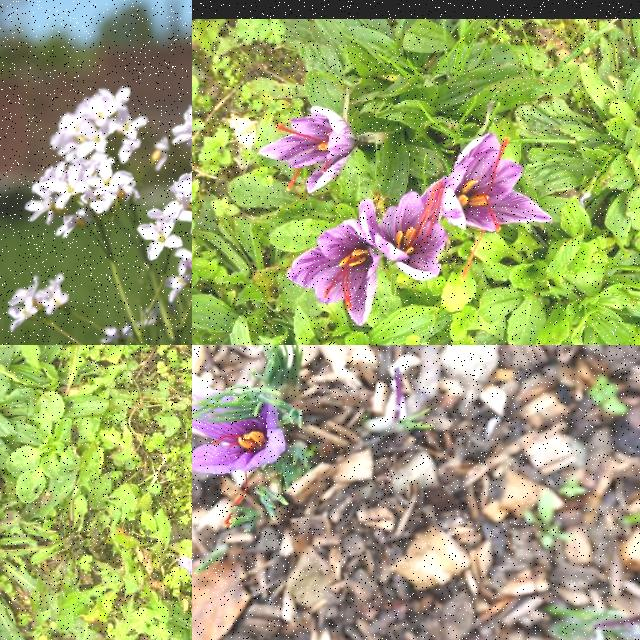flower: (444, 132, 552, 278), (192, 390, 284, 528), (288, 220, 380, 326), (257, 106, 365, 194), (359, 177, 449, 281)
